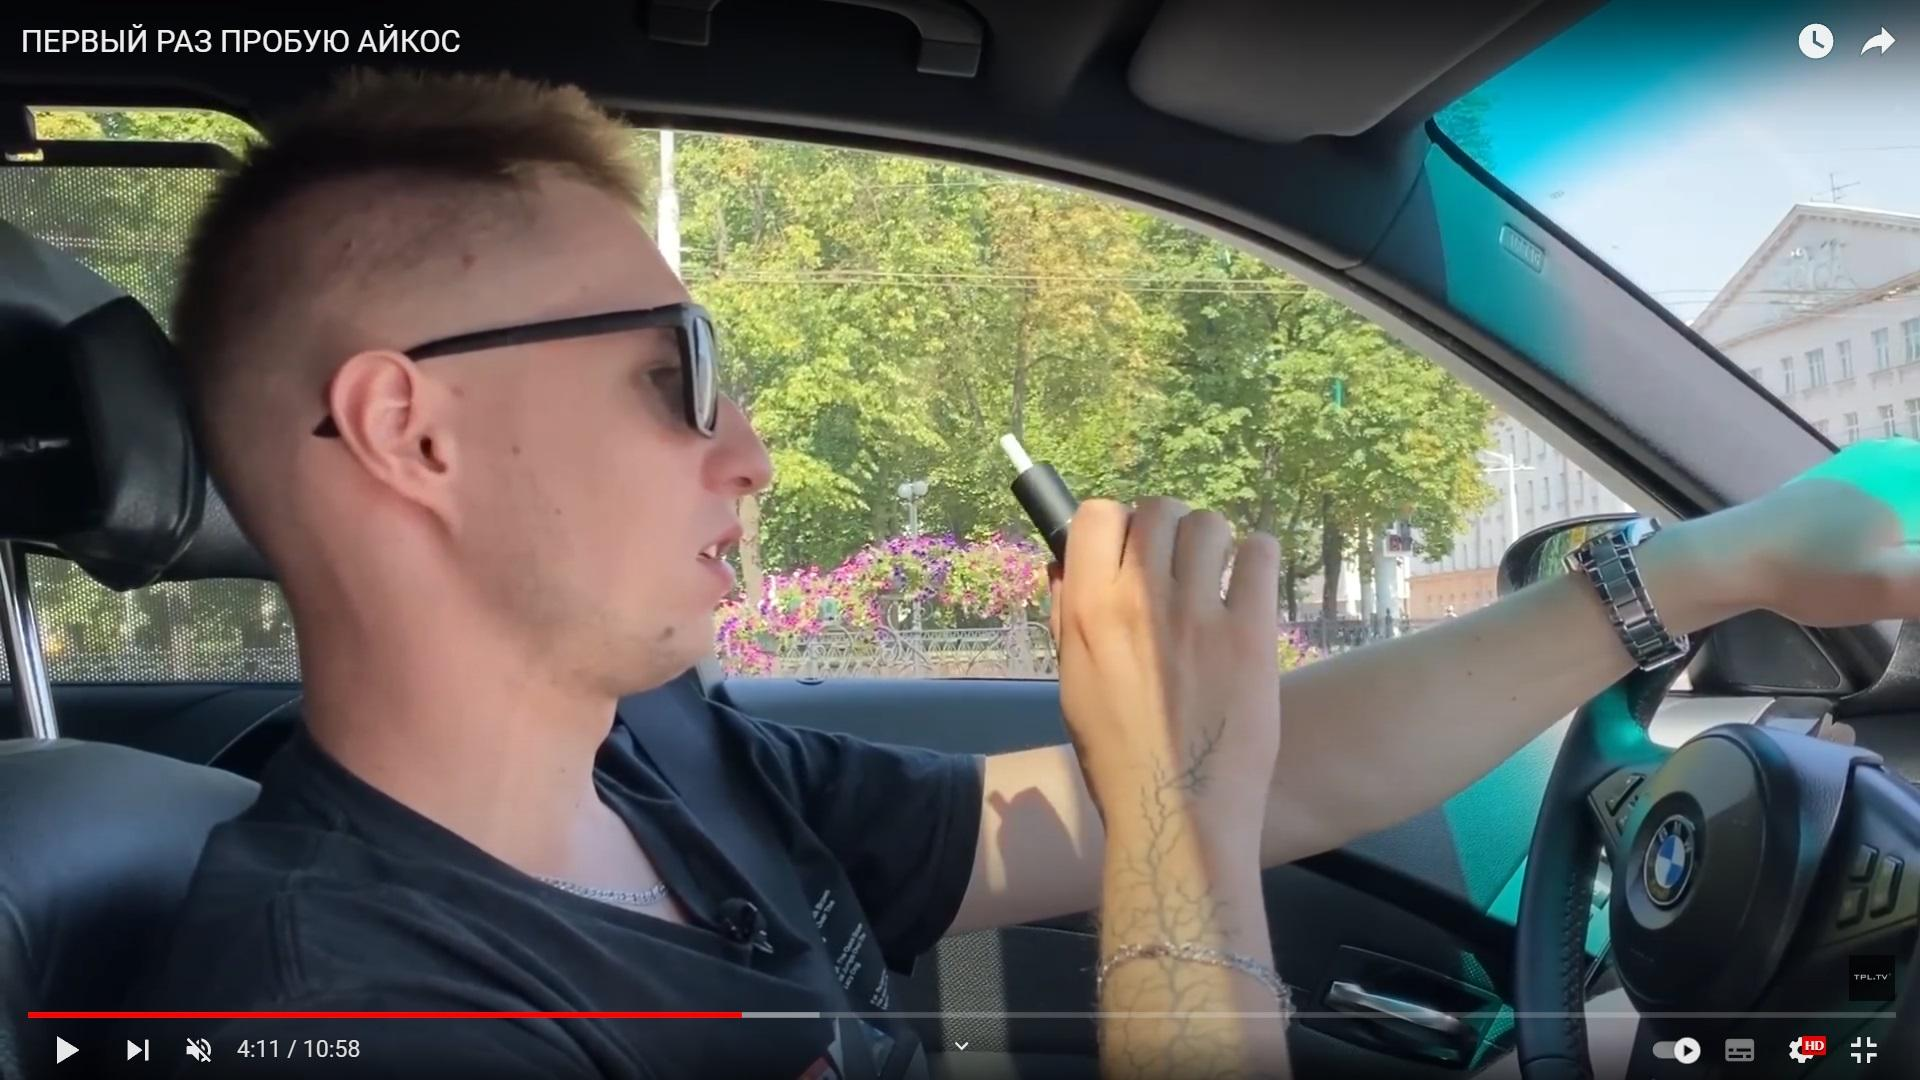iqos: (1000, 433, 1079, 562)
